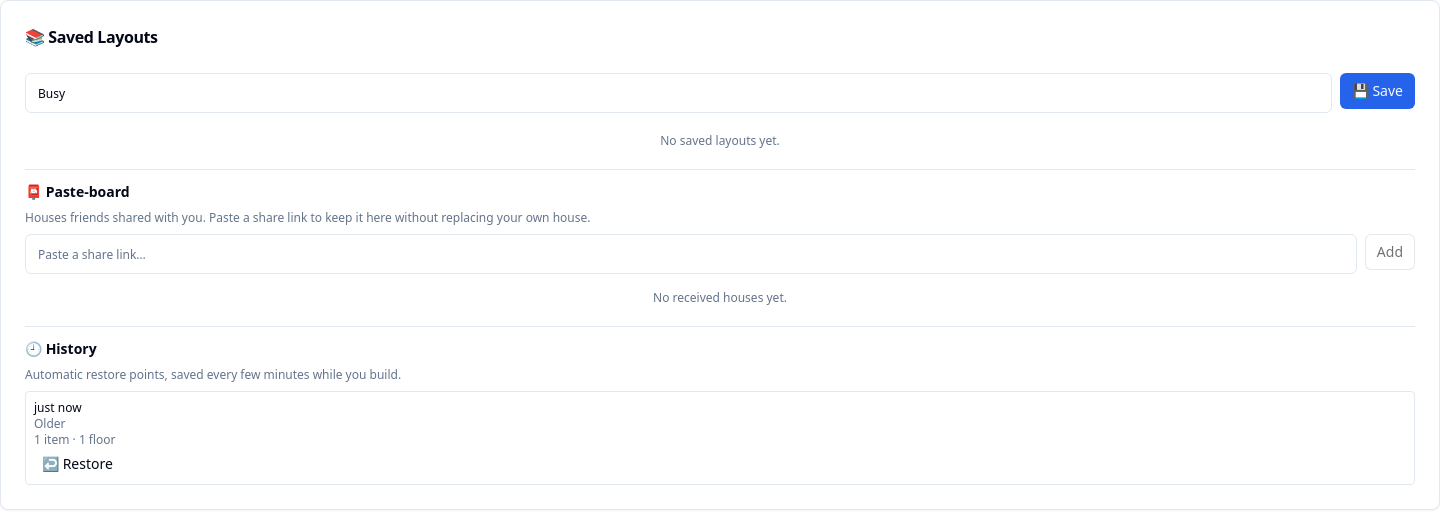
it: LibraryPanel: no native dialogs (#649, #607) › says inline when a restore point is gone by the time it is restored
Click the button "↩️ Restore". click: click(77, 464)
box: 34,452 -> 121,476
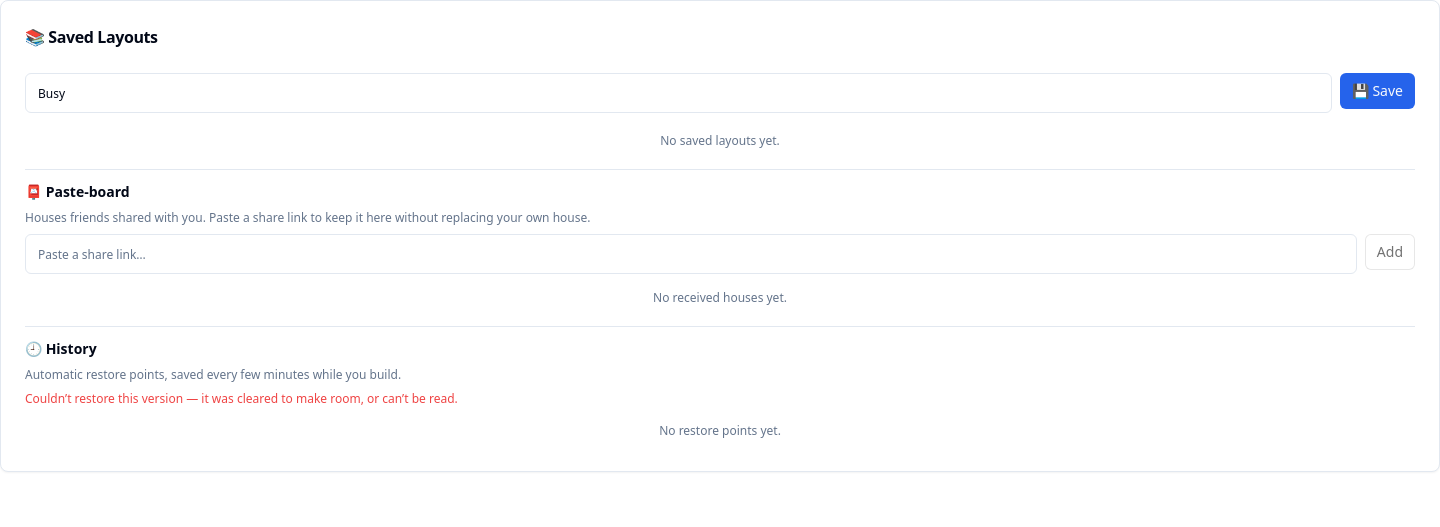
Expected: the message shows "Couldn’t restore this version", 25,390 -> 458,407
